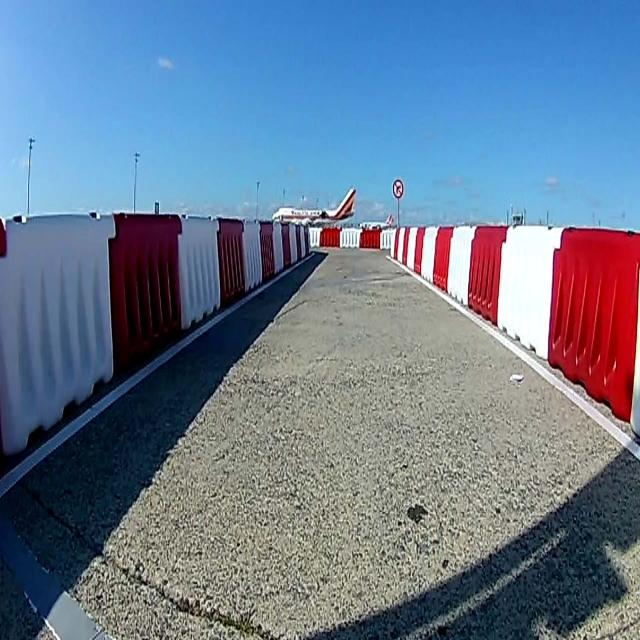sagadonulmez: (392, 177, 404, 199)
